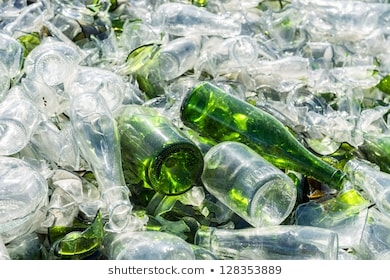glass: (179, 79, 364, 189), (64, 90, 141, 220), (111, 97, 208, 195), (197, 138, 307, 219), (187, 219, 342, 261), (1, 151, 50, 244), (156, 1, 246, 45), (50, 205, 116, 260), (22, 39, 87, 87), (341, 154, 390, 216), (1, 88, 41, 156), (156, 30, 204, 78), (119, 38, 165, 74)
